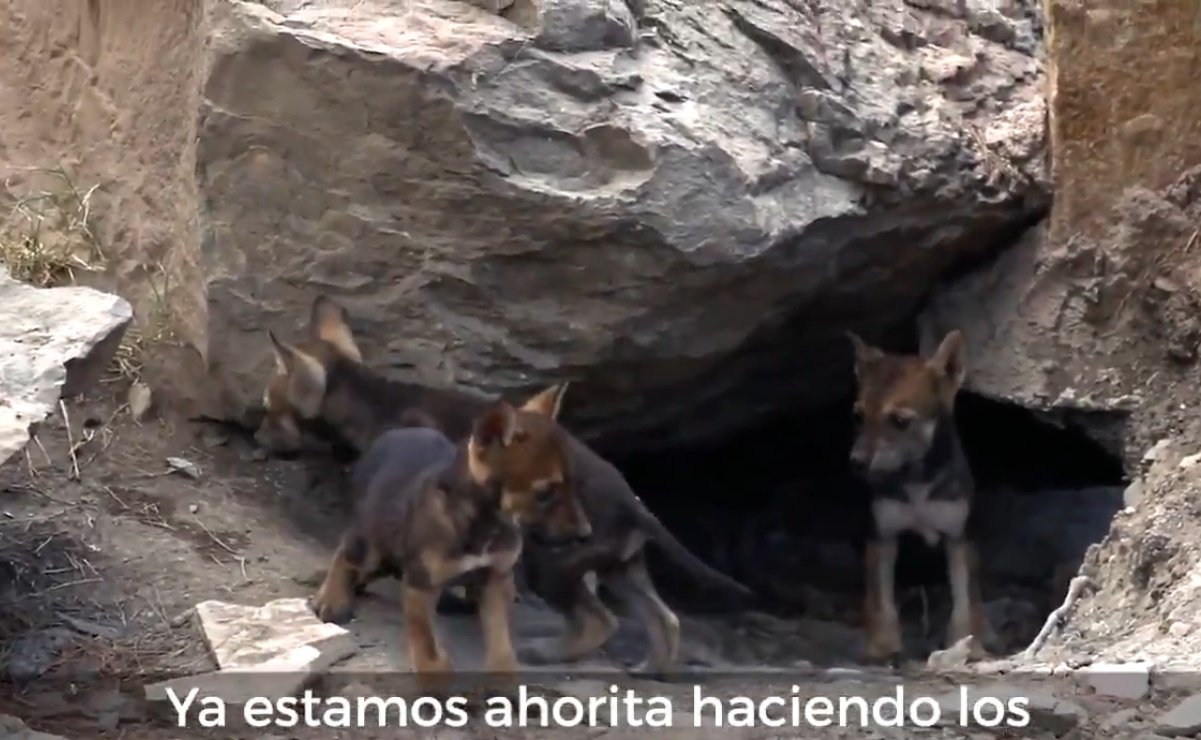Lobo: (365, 393, 606, 658), (862, 362, 1022, 699), (244, 302, 392, 480)
